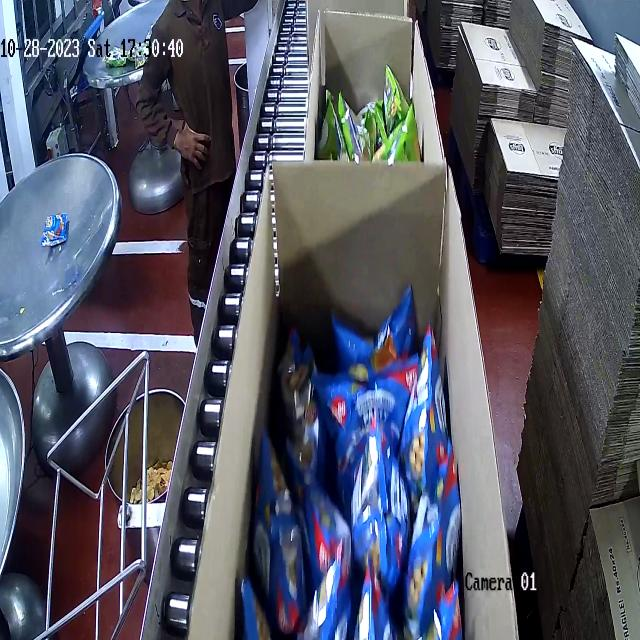PAPRIKA: (273, 306, 458, 640)
